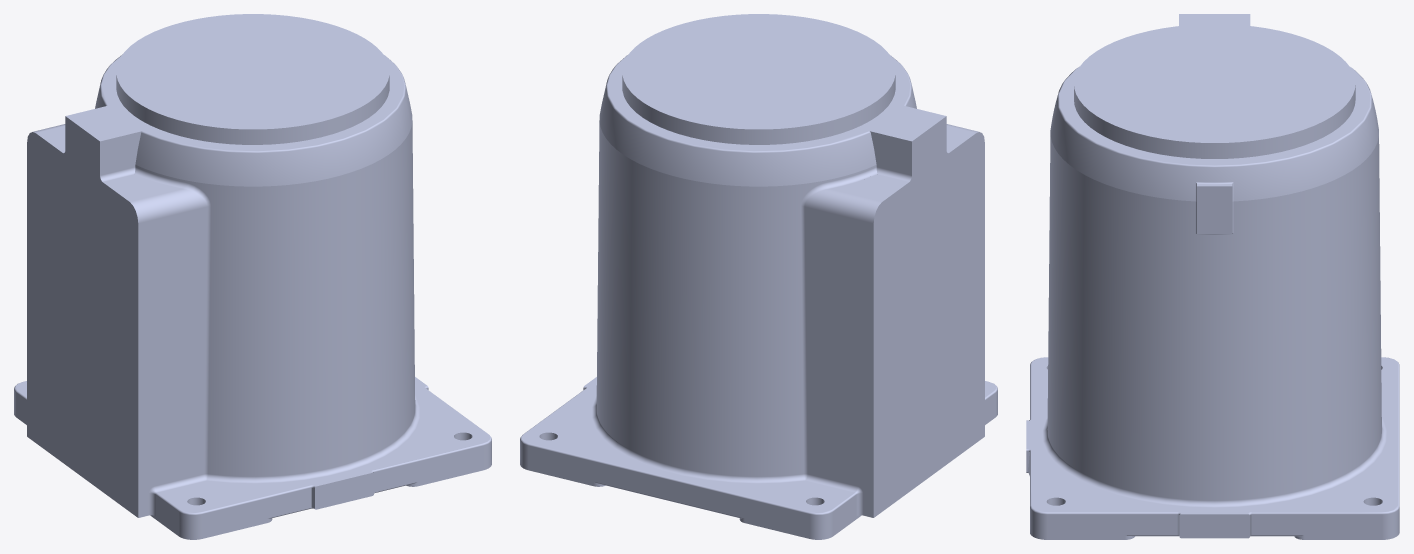
The picture shows the model from 3 angles, left to right: view 1: azimuth 30°, elevation 25°; view 2: azimuth 150°, elevation 25°; view 3: azimuth 270°, elevation 25°; orthographic projection. The views are drawn at different scales.
Parts seen in each view (by area): view 1: a67d7489-d5a9-4964-a017-624448e28cc7; view 2: a67d7489-d5a9-4964-a017-624448e28cc7; view 3: a67d7489-d5a9-4964-a017-624448e28cc7.
Part boxes in pixels (<box>): a67d7489-d5a9-4964-a017-624448e28cc7: <box>14,14,491,539</box>; a67d7489-d5a9-4964-a017-624448e28cc7: <box>520,14,997,539</box>; a67d7489-d5a9-4964-a017-624448e28cc7: <box>1026,14,1399,539</box>.
Bounding box in the file's own units: 0.222 × 0.212 × 0.237.
